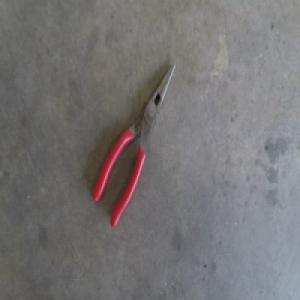Pliers: (92, 58, 177, 224)
